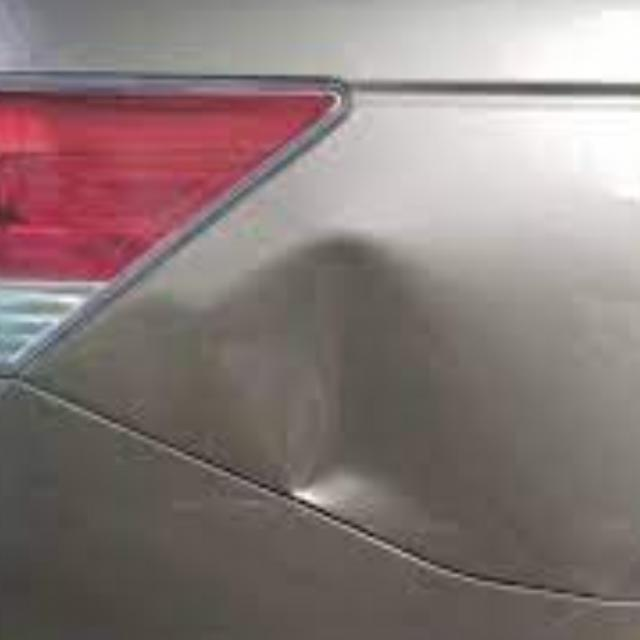dents: (204, 245, 443, 502)
